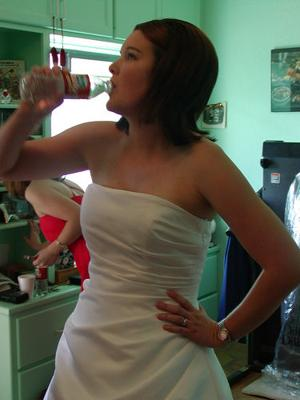person: (1, 18, 300, 400)
